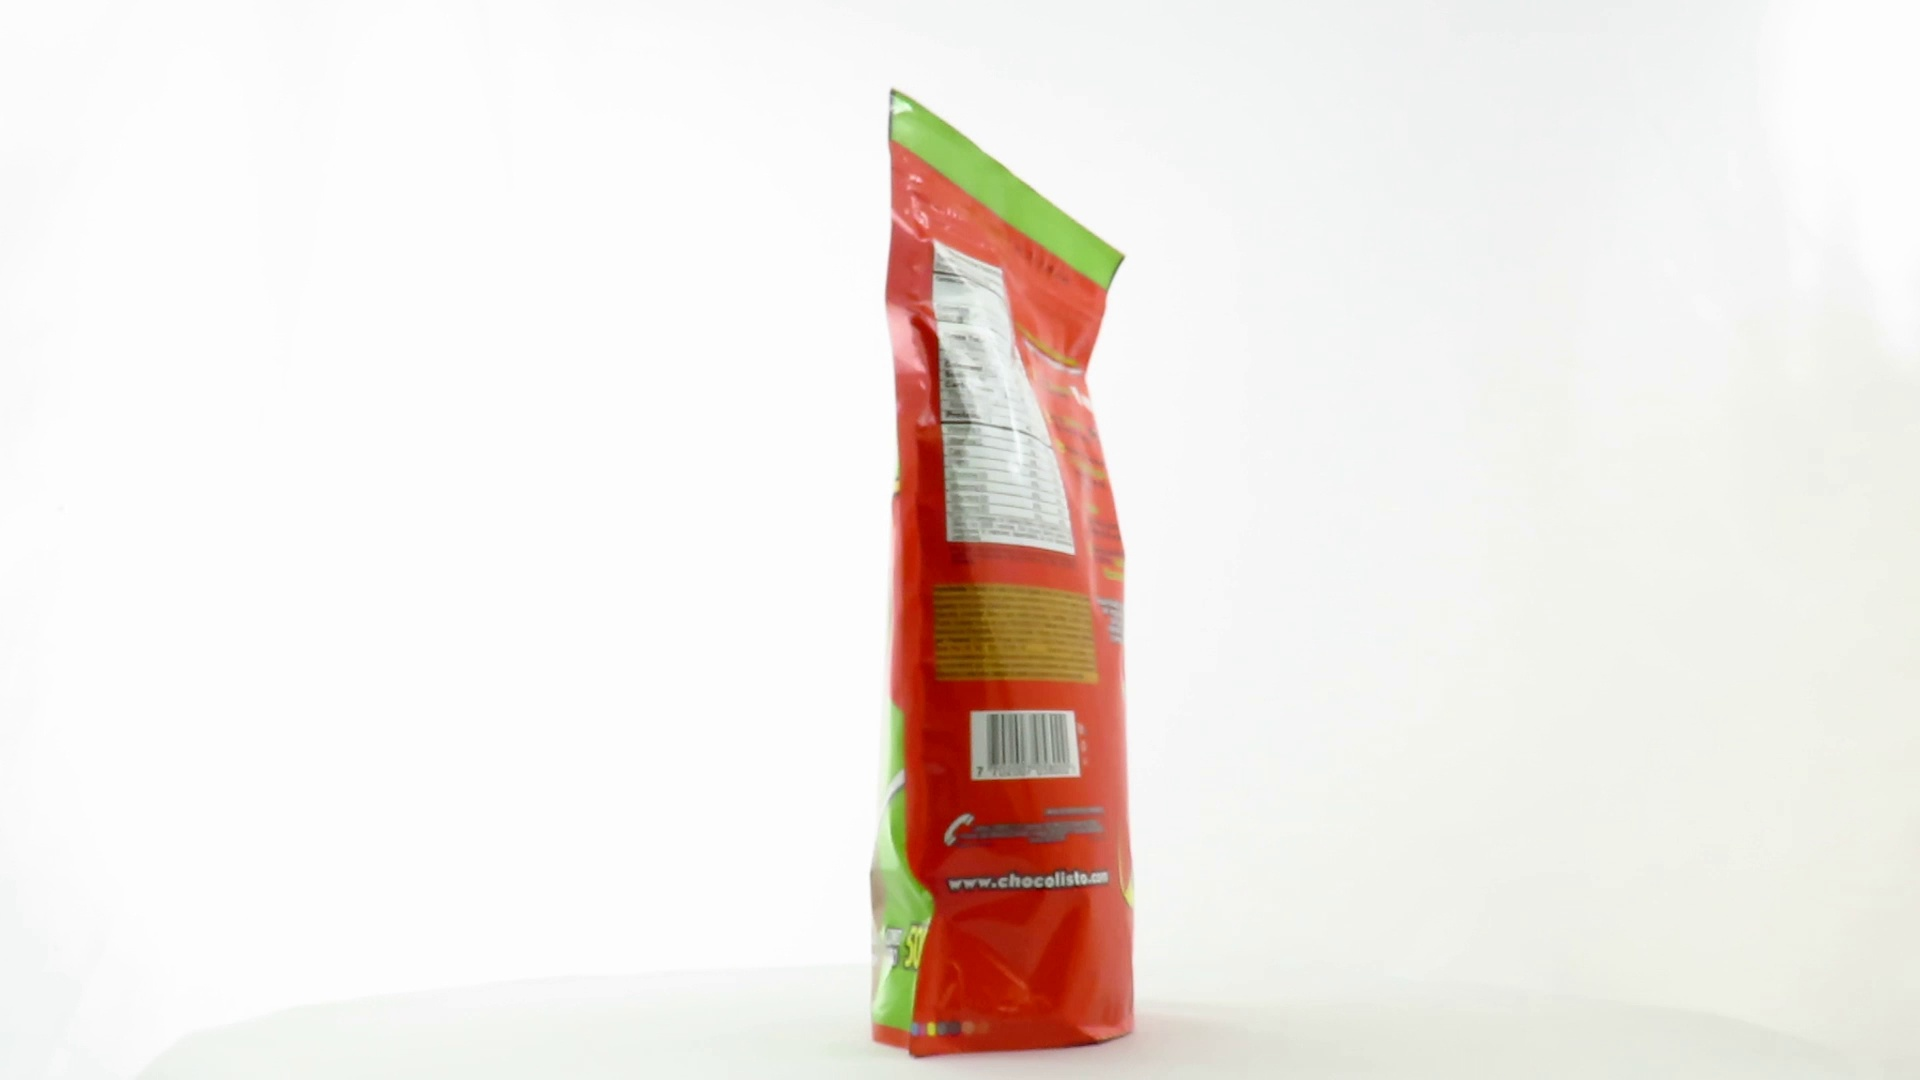COL0170102DYP50000: (864, 83, 1141, 1065)
